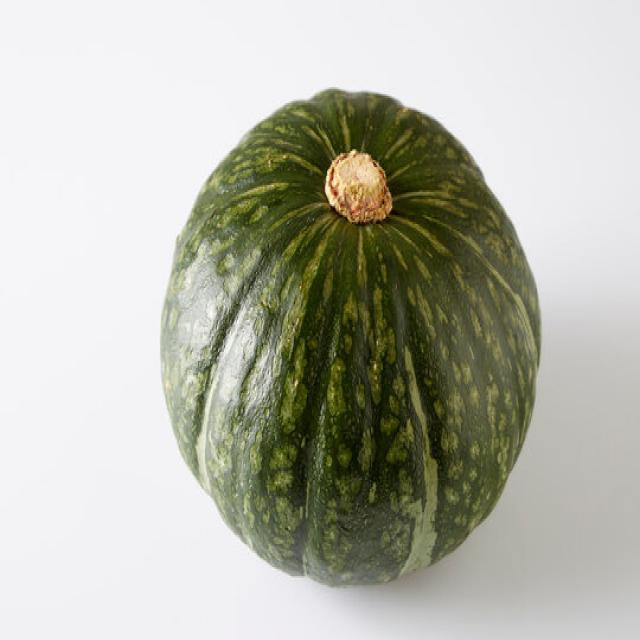Pumpkin: (158, 85, 542, 587)
